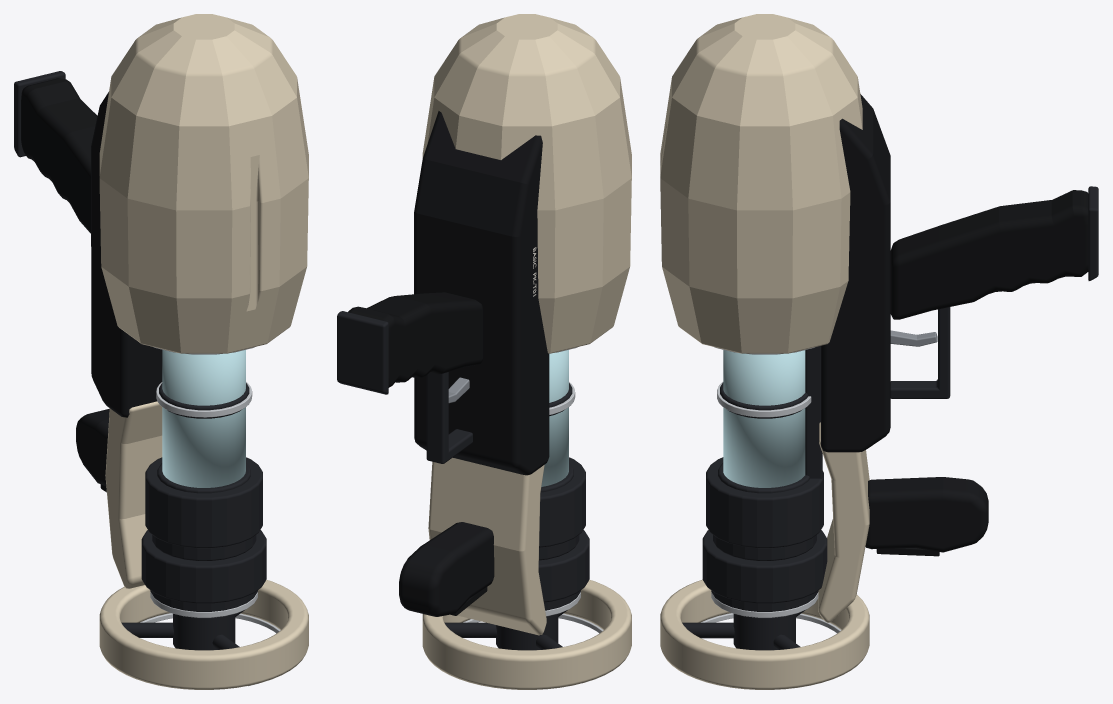
Rendered from BASIC-T01-v2.1.fbx.
The picture shows the model from 3 angles, left to right: view 1: azimuth 30°, elevation 25°; view 2: azimuth 150°, elevation 25°; view 3: azimuth 270°, elevation 25°; orthographic projection.
Parts seen in each view (by area): view 1: shell, emitter, emitter_ring, core_glass, belly, grip, lip, foregrip, hub, core_frame, spokes, grip_cap (+2 smaller); view 2: shell, belly, lip, emitter_ring, grip, foregrip, emitter, grip_cap, trigger_guard, core_glass, hub, spokes (+1 smaller); view 3: shell, belly, grip, emitter, emitter_ring, core_glass, foregrip, lip, core_frame, trigger_guard, hub, spokes (+3 smaller).
Part boxes in pixels (<box>): shell: <box>99,14,308,353</box>; emitter: <box>141,457,266,611</box>; emitter_ring: <box>99,579,308,689</box>; core_glass: <box>162,350,245,487</box>; belly: <box>91,92,162,417</box>; grip: <box>21,78,97,233</box>; lip: <box>105,401,162,588</box>; foregrip: <box>76,408,109,486</box>; hub: <box>173,614,235,650</box>; core_frame: <box>157,383,250,493</box>; spokes: <box>121,610,244,649</box>; grip_cap: <box>14,71,65,157</box>; shell: <box>422,14,631,353</box>; belly: <box>414,111,549,475</box>; lip: <box>428,457,546,635</box>; emitter_ring: <box>422,579,631,689</box>; grip: <box>348,292,483,387</box>; foregrip: <box>399,522,494,616</box>; emitter: <box>538,457,589,610</box>; grip_cap: <box>337,311,388,394</box>; trigger_guard: <box>426,372,472,463</box>; core_glass: <box>541,350,568,486</box>; hub: <box>496,614,558,650</box>; spokes: <box>444,610,567,649</box>; shell: <box>660,14,862,353</box>; belly: <box>821,94,890,452</box>; grip: <box>890,190,1088,319</box>; emitter: <box>702,457,827,611</box>; emitter_ring: <box>660,579,869,689</box>; core_glass: <box>723,350,805,487</box>; foregrip: <box>865,477,988,552</box>; lip: <box>818,422,869,622</box>; core_frame: <box>718,346,822,493</box>; trigger_guard: <box>890,307,950,398</box>; hub: <box>733,614,795,650</box>; spokes: <box>682,610,805,649</box>.
Bounding box in the file's own units: 0.1198 × 0.404 × 0.2509.
